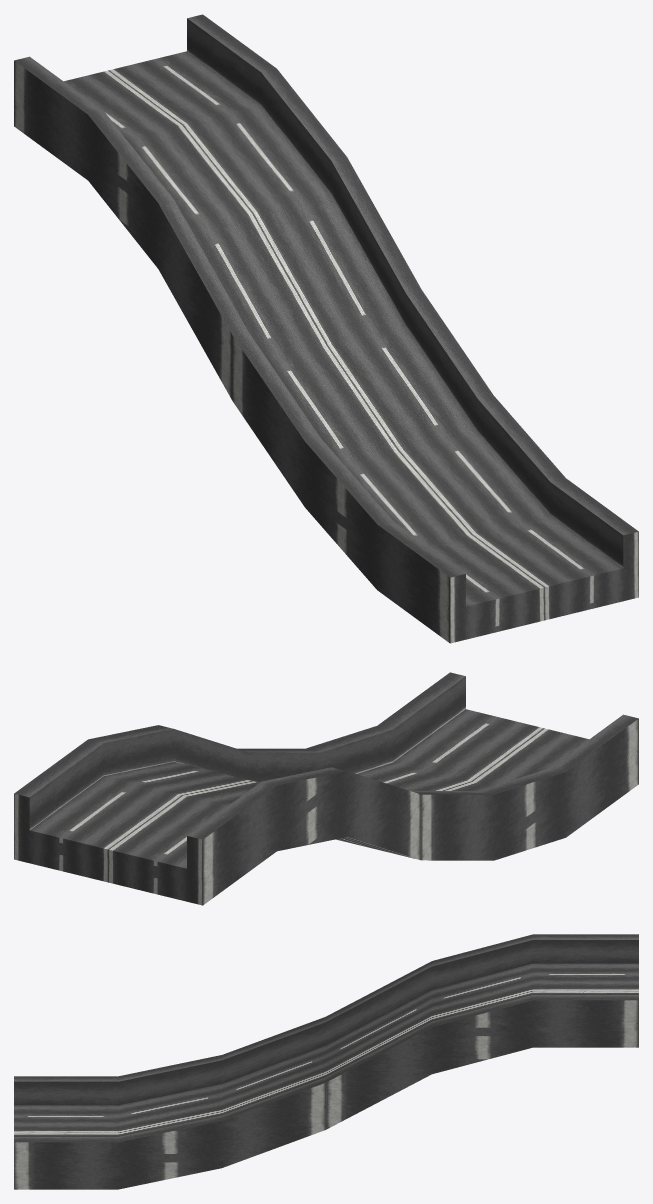
The model's file is D-Downhill.obj.
3 views of the same model, one above another, from view 1: azimuth 30°, elevation 25°; view 2: azimuth 150°, elevation 25°; view 3: azimuth 270°, elevation 25° (orthographic). The views are drawn at different scales.
Parts seen in each view (by area): view 1: polySurface8; view 2: polySurface8; view 3: polySurface8.
Part boxes in pixels (box(x1,y1,x2,y2)): polySurface8: box(14, 14, 638, 643); polySurface8: box(14, 672, 638, 905); polySurface8: box(14, 934, 638, 1189).
Size of the model in its own units: 472 by 631 by 1889.
Materials: 1 (1 with a texture image).
